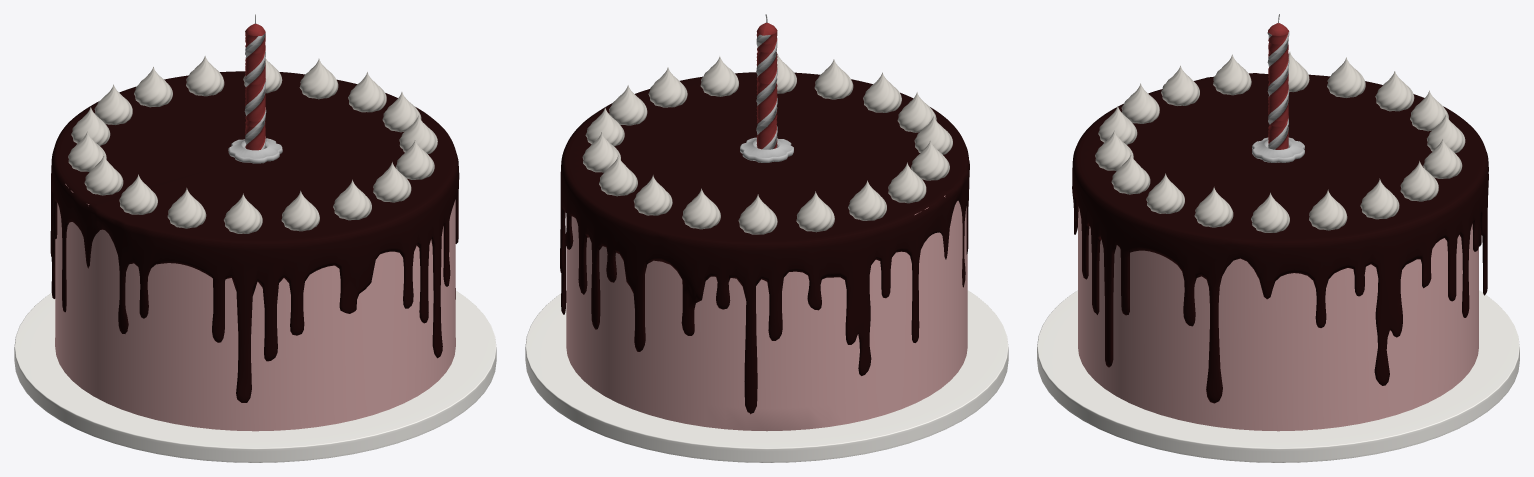
Rendered from cake.glb.
3 views of the same model, side by side, from view 1: azimuth 30°, elevation 25°; view 2: azimuth 150°, elevation 25°; view 3: azimuth 270°, elevation 25° (orthographic).
Parts seen in each view (by area): view 1: pCylinder3, pCylinder5, pCylinder29, Candle_1006_0, pSphere544, pSphere545, pSphere547, pSphere548, pSphere557, pSphere554, pSphere552, pSphere556 (+11 smaller); view 2: pCylinder3, pCylinder5, pCylinder29, Candle_1006_0, pSphere549, pSphere560, pSphere548, pSphere547, pSphere551, pSphere557, pSphere556, pSphere552 (+12 smaller); view 3: pCylinder3, pCylinder5, pCylinder29, Candle_1006_0, pSphere550, pSphere553, pSphere560, pSphere554, pSphere545, pSphere551, Candle, pSphere544 (+12 smaller).
Part boxes in pixels (left/top/right/bottom): pCylinder3: left=50, top=71, right=459, bottom=402; pCylinder5: left=55, top=184, right=455, bottom=431; pCylinder29: left=14, top=291, right=496, bottom=462; Candle_1006_0: left=245, top=23, right=265, bottom=150; pSphere544: left=348, top=72, right=386, bottom=112; pSphere545: left=299, top=58, right=338, bottom=99; pSphere547: left=186, top=55, right=224, bottom=96; pSphere548: left=134, top=66, right=172, bottom=107; pSphere557: left=333, top=179, right=371, bottom=220; pSphere554: left=167, top=188, right=206, bottom=228; pSphere552: left=84, top=155, right=123, bottom=195; pSphere556: left=281, top=190, right=319, bottom=231; pCylinder3: left=560, top=72, right=969, bottom=414; pCylinder5: left=566, top=195, right=967, bottom=431; pCylinder29: left=525, top=290, right=1008, bottom=462; Candle_1006_0: left=756, top=23, right=777, bottom=149; pSphere549: left=738, top=194, right=777, bottom=234; pSphere560: left=648, top=67, right=687, bottom=107; pSphere548: left=682, top=188, right=720, bottom=229; pSphere547: left=633, top=175, right=672, bottom=215; pSphere551: left=848, top=180, right=886, bottom=220; pSphere557: left=814, top=59, right=853, bottom=99; pSphere556: left=863, top=72, right=901, bottom=112; pSphere552: left=888, top=162, right=926, bottom=203; pCylinder3: left=1072, top=73, right=1488, bottom=403; pCylinder5: left=1078, top=75, right=1478, bottom=431; pCylinder29: left=1037, top=290, right=1519, bottom=462; Candle_1006_0: left=1268, top=23, right=1288, bottom=149; pSphere550: left=1375, top=71, right=1414, bottom=111; pSphere553: left=1213, top=54, right=1251, bottom=95; pSphere560: left=1194, top=187, right=1233, bottom=227; pSphere554: left=1161, top=65, right=1199, bottom=105; pSphere545: left=1360, top=178, right=1399, bottom=219; pSphere551: left=1327, top=57, right=1365, bottom=97; Candle: left=1267, top=14, right=1289, bottom=149; pSphere544: left=1309, top=189, right=1347, bottom=230.
Size of the model in its own units: 2.4 by 1.9 by 2.4.
7 materials, 7 textured.
